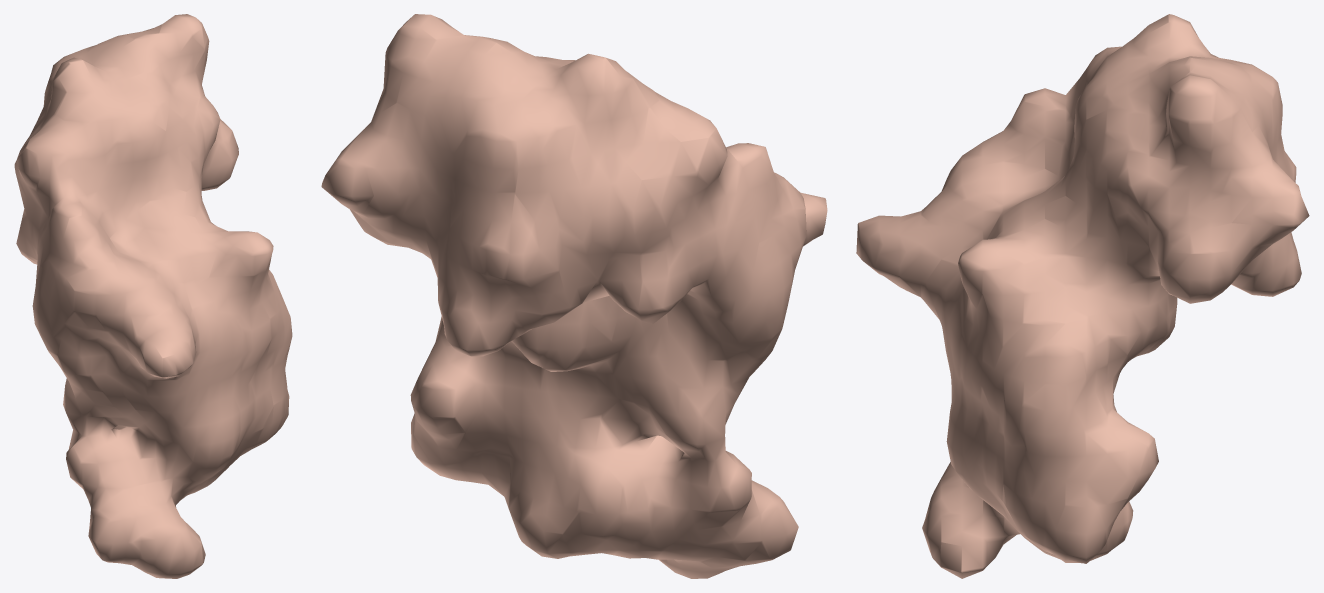
The model's file is HIV1_NC_1a1t_0_1_2.dae.
The picture shows the model from 3 angles, left to right: view 1: azimuth 30°, elevation 25°; view 2: azimuth 150°, elevation 25°; view 3: azimuth 270°, elevation 25°; orthographic projection. The views are drawn at different scales.
Visible parts, largest first — view 1: CoarseMS_1a1t_model1_A; view 2: CoarseMS_1a1t_model1_A; view 3: CoarseMS_1a1t_model1_A.
Boxes of the visible parts, <box> form: CoarseMS_1a1t_model1_A: <box>14,14,292,578</box>; CoarseMS_1a1t_model1_A: <box>321,14,827,578</box>; CoarseMS_1a1t_model1_A: <box>856,14,1309,578</box>.
Bounding box in the file's own units: 0.2539 × 0.4268 × 0.3138.
